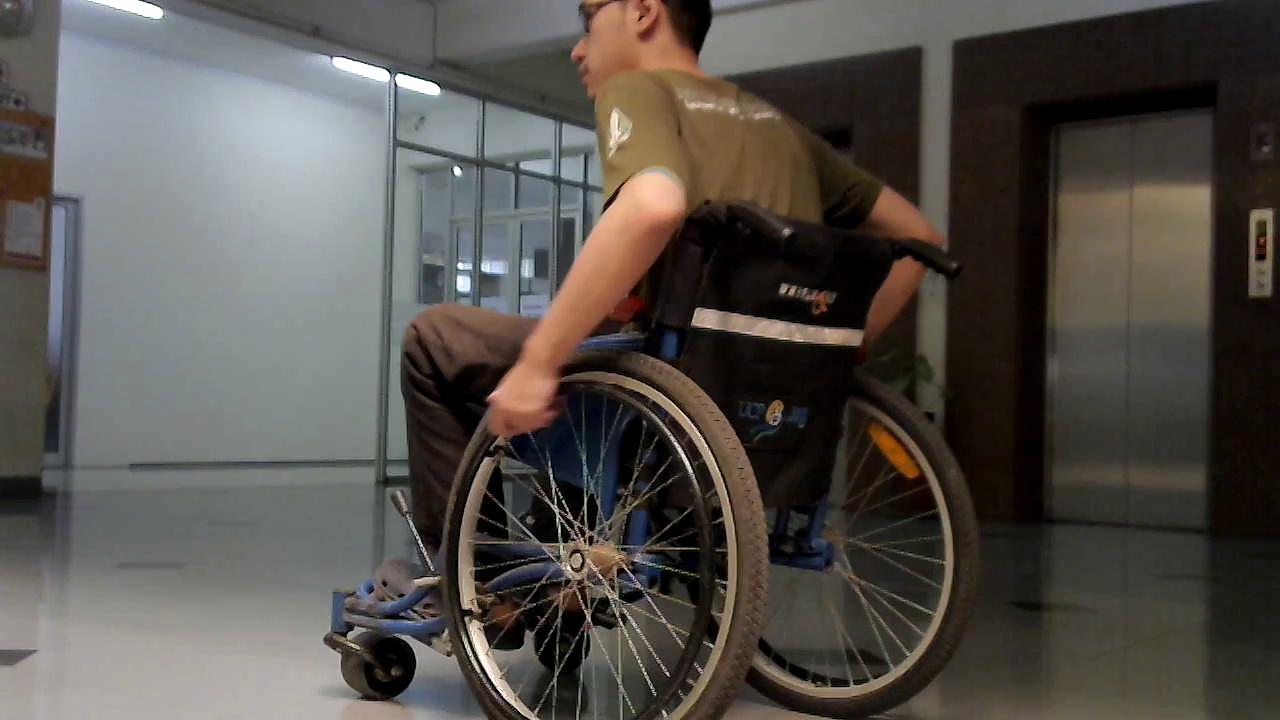person: (397, 2, 959, 633)
wheelchair: (302, 188, 986, 720)
